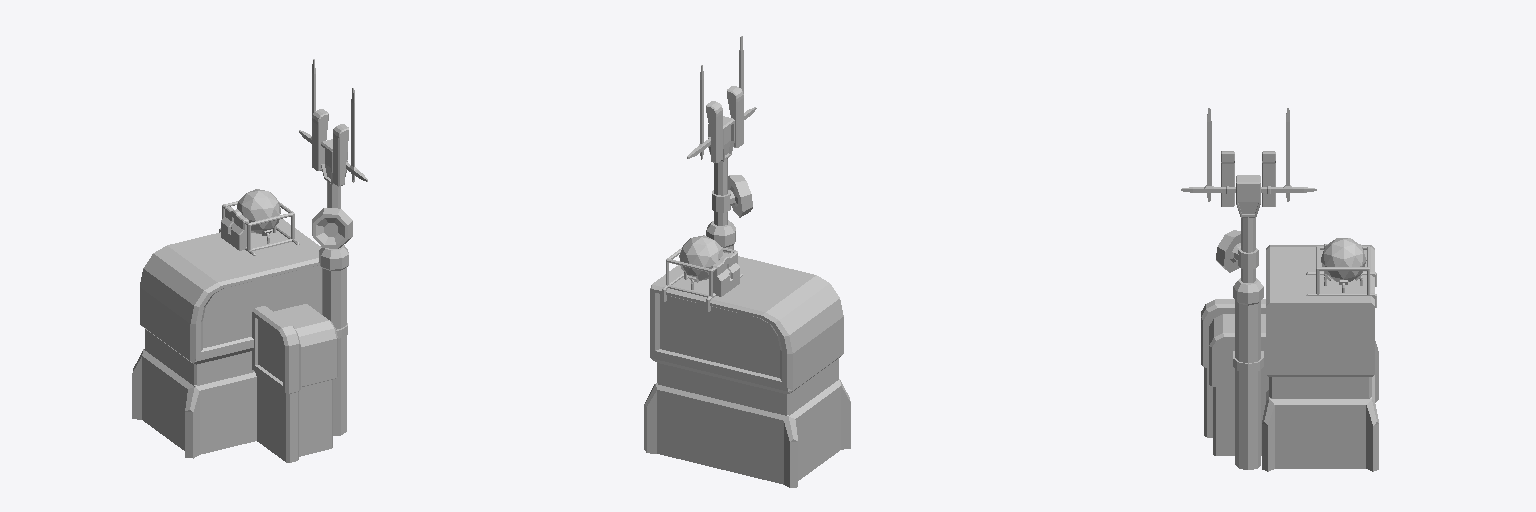
The model's file is meteorologicalStation.obj.
3 views of the same model, side by side, from view 1: azimuth 30°, elevation 25°; view 2: azimuth 150°, elevation 25°; view 3: azimuth 270°, elevation 25° (orthographic).
Visible parts, largest first — view 1: Cube; view 2: Cube; view 3: Cube.
Part boxes in pixels (left/top/right/bottom): Cube: left=132, top=59, right=367, bottom=462; Cube: left=644, top=36, right=850, bottom=487; Cube: left=1181, top=108, right=1378, bottom=471.
Bounding box in the file's own units: 3.27 × 7.24 × 3.65.